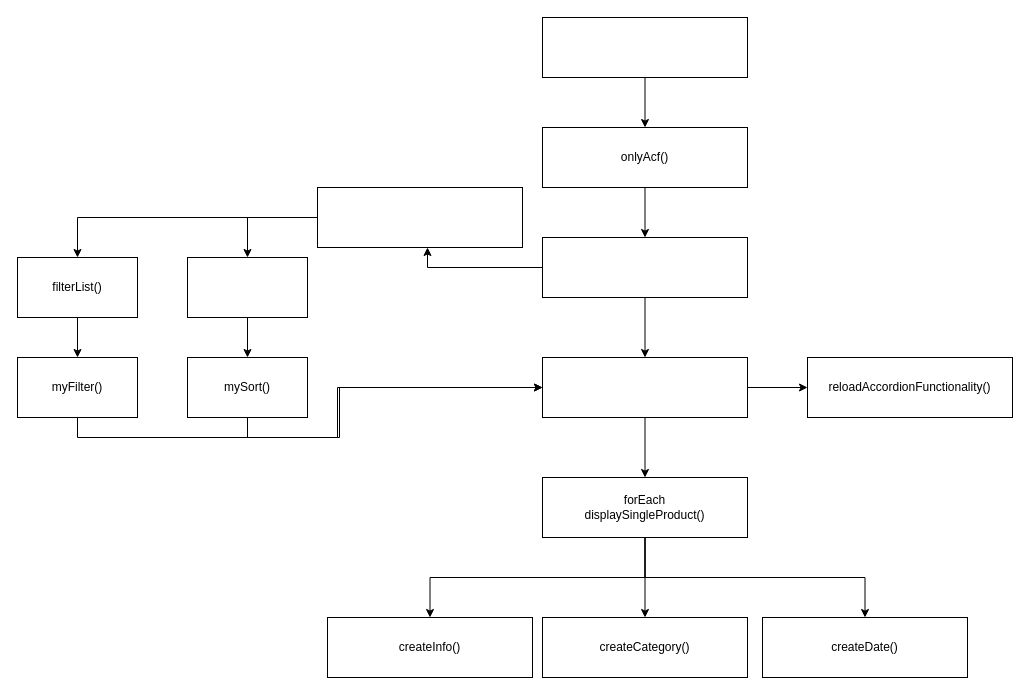
This 1030x695 diagram has some shape labels left out. Each missing label, with the centre of its shape:
"displayList()" belongs at (x=645, y=387).
"eventListeners()" belongs at (x=419, y=217).
"if(liste){ getJson }" belongs at (x=645, y=47).
"makeProducts()" belongs at (x=645, y=267).
"sortList()" belongs at (x=247, y=287).
